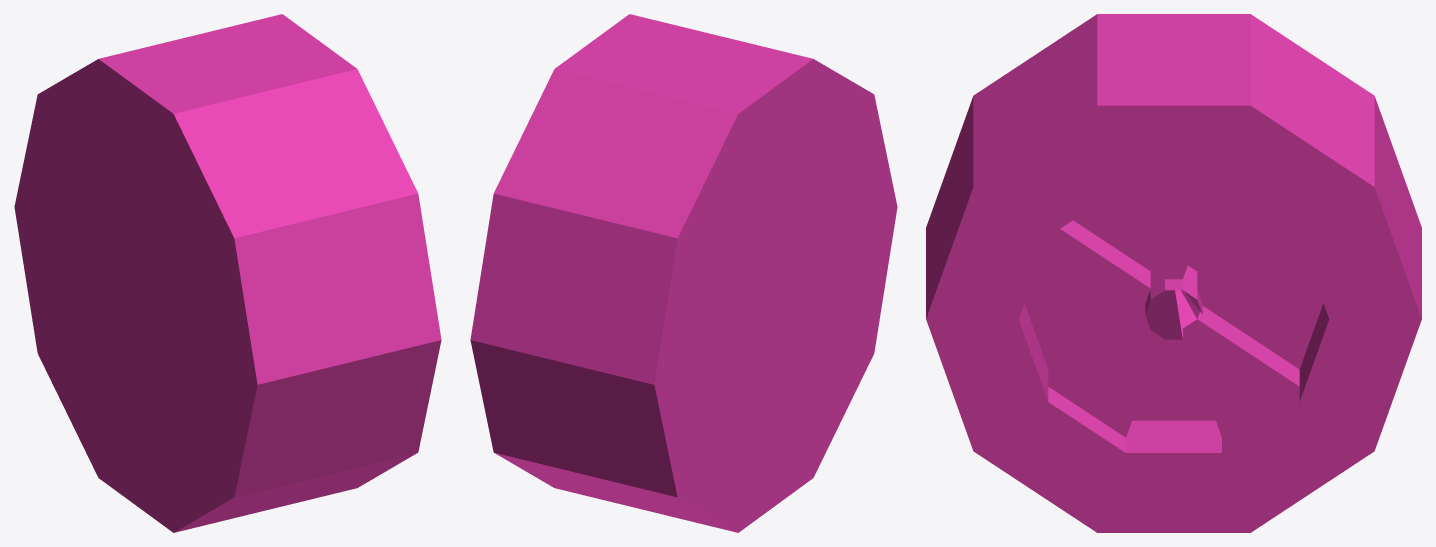
File: rueda.fbx
The picture shows the model from 3 angles, left to right: view 1: azimuth 30°, elevation 25°; view 2: azimuth 150°, elevation 25°; view 3: azimuth 270°, elevation 25°; orthographic projection.
Visible parts, largest first — view 1: wheel; view 2: wheel; view 3: wheel.
Part boxes in pixels (x1,y1,x2,y2): wheel: (14, 14, 441, 532); wheel: (470, 14, 897, 532); wheel: (926, 14, 1421, 532).
Bounding box in the file's own units: 0.2836 × 0.6174 × 0.6492.
